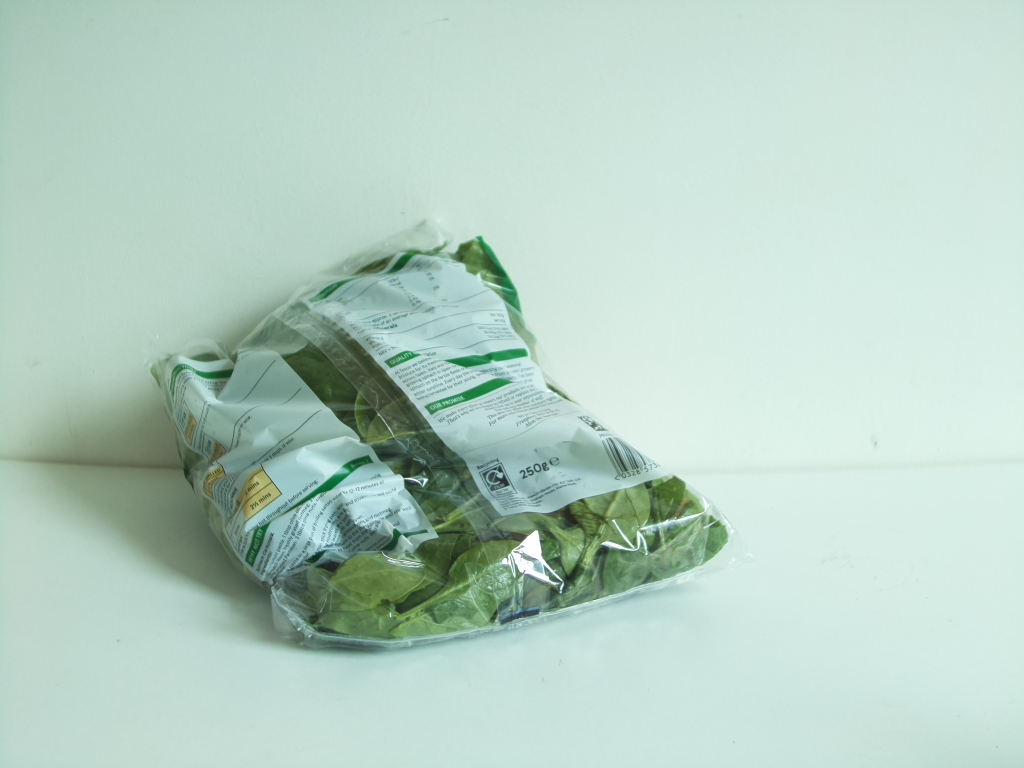salad: (154, 231, 724, 652)
